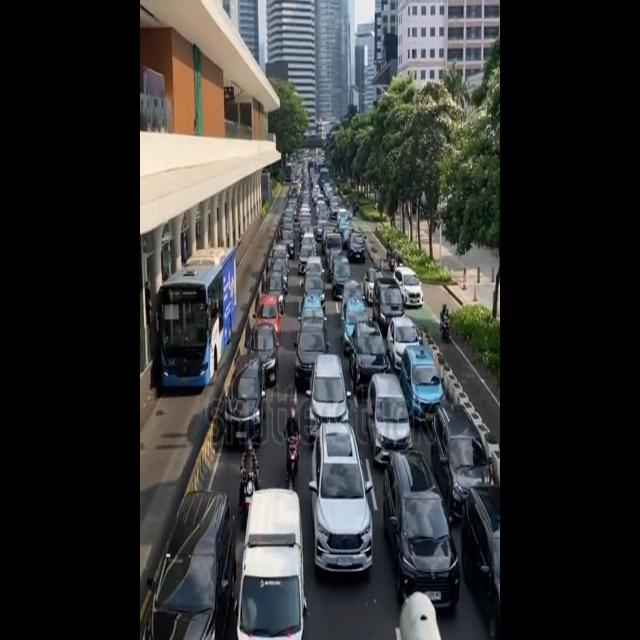Ambulance: (239, 474, 316, 640)
